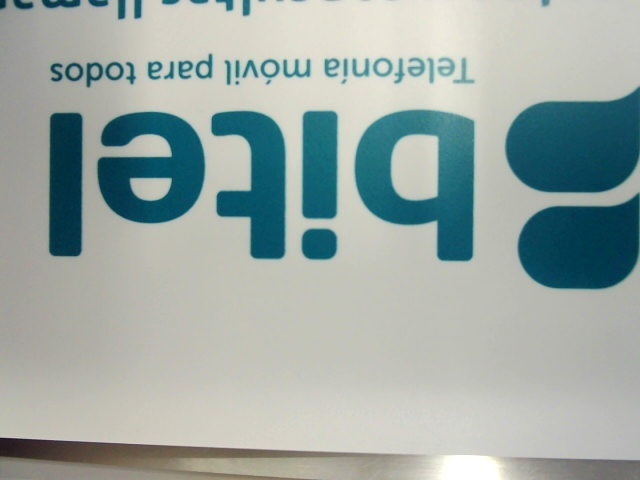BE_bitel: (28, 90, 637, 293)
